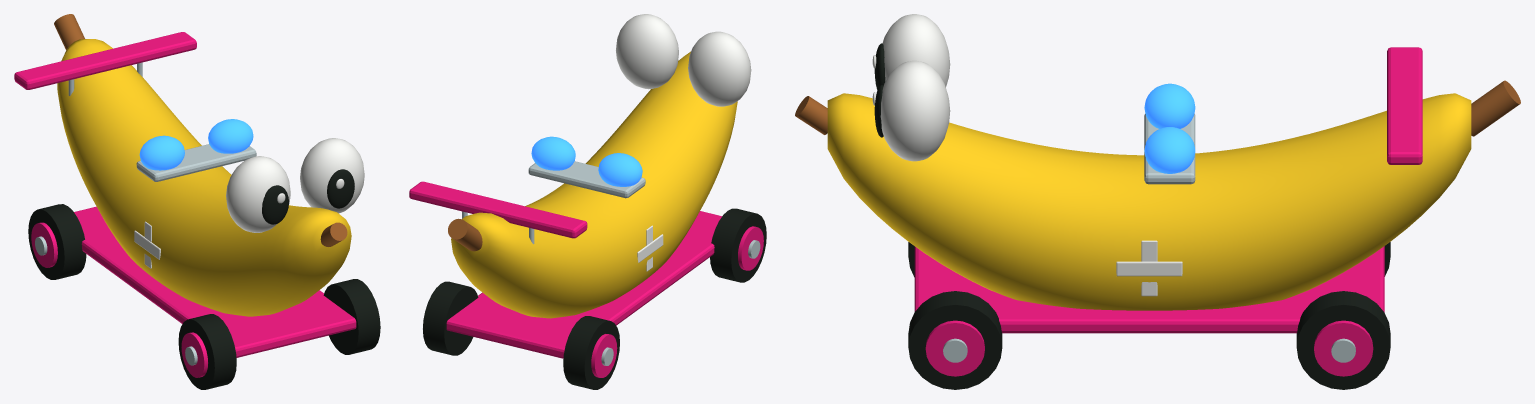
Rendered from ems-ambulancebanan.glb.
3 views of the same model, side by side, from view 1: azimuth 30°, elevation 25°; view 2: azimuth 150°, elevation 25°; view 3: azimuth 270°, elevation 25° (orthographic). The views are drawn at different scales.
Parts seen in each view (by area): view 1: Emergency_Banana_Response__Rubber duck / banana yellow.001, Emergency_Banana_Response__Ridiculous hot pink.001, Emergency_Banana_Response__Eyeball white.001, Wheel_RF__Pupils and tyre rubber.001, Wheel_LF__Pupils and tyre rubber.001, Wheel_LB__Pupils and tyre rubber.001, Emergency_Banana_Response__BeaconBlueLeft.001, Emergency_Banana_Response__Chrome.001, Emergency_Banana_Response__Pupils and tyre rubber.001, Emergency_Banana_Response__Pizza crust / banana stem.001, Wheel_LF__Ridiculous hot pink.001, Wheel_LB__Ridiculous hot pink.001; view 2: Emergency_Banana_Response__Rubber duck / banana yellow.001, Emergency_Banana_Response__Ridiculous hot pink.001, Emergency_Banana_Response__Eyeball white.001, Wheel_RB__Pupils and tyre rubber.001, Wheel_LB__Pupils and tyre rubber.001, Wheel_LF__Pupils and tyre rubber.001, Emergency_Banana_Response__BeaconBlueLeft.001, Emergency_Banana_Response__Chrome.001, Emergency_Banana_Response__Pizza crust / banana stem.001, Wheel_LB__Ridiculous hot pink.001, Wheel_LF__Ridiculous hot pink.001; view 3: Emergency_Banana_Response__Rubber duck / banana yellow.001, Emergency_Banana_Response__Ridiculous hot pink.001, Emergency_Banana_Response__Eyeball white.001, Wheel_RB__Pupils and tyre rubber.001, Wheel_RF__Pupils and tyre rubber.001, Emergency_Banana_Response__BeaconBlueLeft.001, Emergency_Banana_Response__Pizza crust / banana stem.001, Wheel_RF__Ridiculous hot pink.001, Wheel_RB__Ridiculous hot pink.001, Emergency_Banana_Response__Chrome.001, Emergency_Banana_Response__Pupils and tyre rubber.001.
Boxes of the visible parts, x1,y1,x2,y2 form: Emergency_Banana_Response__Rubber duck / banana yellow.001: (57, 39, 351, 316); Emergency_Banana_Response__Ridiculous hot pink.001: (14, 32, 356, 357); Emergency_Banana_Response__Eyeball white.001: (134, 138, 364, 268); Wheel_RF__Pupils and tyre rubber.001: (323, 279, 380, 354); Wheel_LF__Pupils and tyre rubber.001: (178, 314, 236, 389); Wheel_LB__Pupils and tyre rubber.001: (28, 204, 86, 279); Emergency_Banana_Response__BeaconBlueLeft.001: (139, 119, 253, 170); Emergency_Banana_Response__Chrome.001: (68, 62, 256, 181); Emergency_Banana_Response__Pupils and tyre rubber.001: (262, 169, 354, 224); Emergency_Banana_Response__Pizza crust / banana stem.001: (54, 14, 347, 246); Wheel_LF__Ridiculous hot pink.001: (181, 332, 207, 377); Wheel_LB__Ridiculous hot pink.001: (31, 222, 57, 267); Emergency_Banana_Response__Rubber duck / banana yellow.001: (451, 51, 737, 318); Emergency_Banana_Response__Ridiculous hot pink.001: (409, 181, 721, 358); Emergency_Banana_Response__Eyeball white.001: (616, 14, 751, 271); Wheel_RB__Pupils and tyre rubber.001: (423, 281, 478, 355); Wheel_LB__Pupils and tyre rubber.001: (563, 316, 619, 389); Wheel_LF__Pupils and tyre rubber.001: (710, 208, 766, 282); Emergency_Banana_Response__BeaconBlueLeft.001: (531, 136, 642, 186); Emergency_Banana_Response__Chrome.001: (462, 161, 645, 244); Emergency_Banana_Response__Pizza crust / banana stem.001: (448, 218, 482, 251); Wheel_LB__Ridiculous hot pink.001: (591, 334, 617, 377); Wheel_LF__Ridiculous hot pink.001: (738, 226, 763, 270); Emergency_Banana_Response__Rubber duck / banana yellow.001: (827, 93, 1471, 310); Emergency_Banana_Response__Ridiculous hot pink.001: (914, 47, 1422, 333); Emergency_Banana_Response__Eyeball white.001: (872, 14, 1182, 296); Wheel_RB__Pupils and tyre rubber.001: (1296, 291, 1390, 389); Wheel_RF__Pupils and tyre rubber.001: (908, 291, 1002, 389); Emergency_Banana_Response__BeaconBlueLeft.001: (1144, 83, 1195, 173); Emergency_Banana_Response__Pizza crust / banana stem.001: (795, 80, 1520, 136); Wheel_RF__Ridiculous hot pink.001: (925, 320, 984, 376); Wheel_RB__Ridiculous hot pink.001: (1314, 320, 1373, 376); Emergency_Banana_Response__Chrome.001: (1144, 114, 1195, 184); Emergency_Banana_Response__Pupils and tyre rubber.001: (874, 43, 885, 137).
Size of the model in its own units: 2.62 by 3.21 by 7.11.
